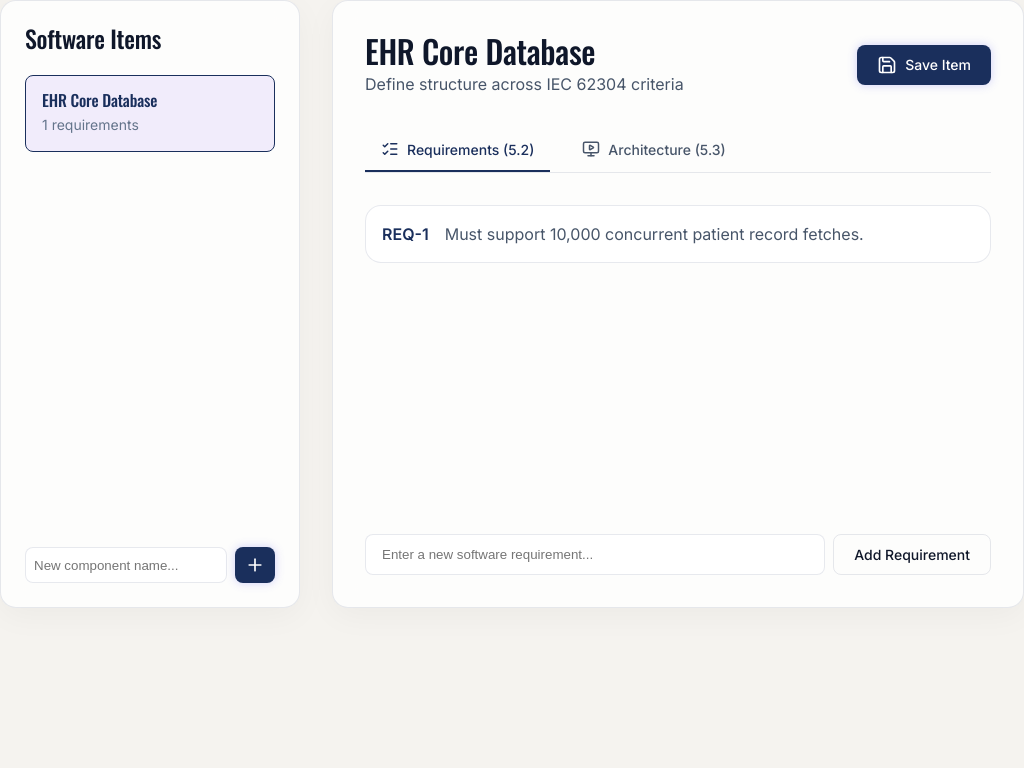
Test: SoftwareArchitecture component › arch.prog.02: adding a valid requirement creates REQ-2
The image size is (1024, 768).
Type "Must support OAuth 2.0" into the field with placeholder "Enter a new software requirement..." at [595, 554], box [365, 534, 825, 575]
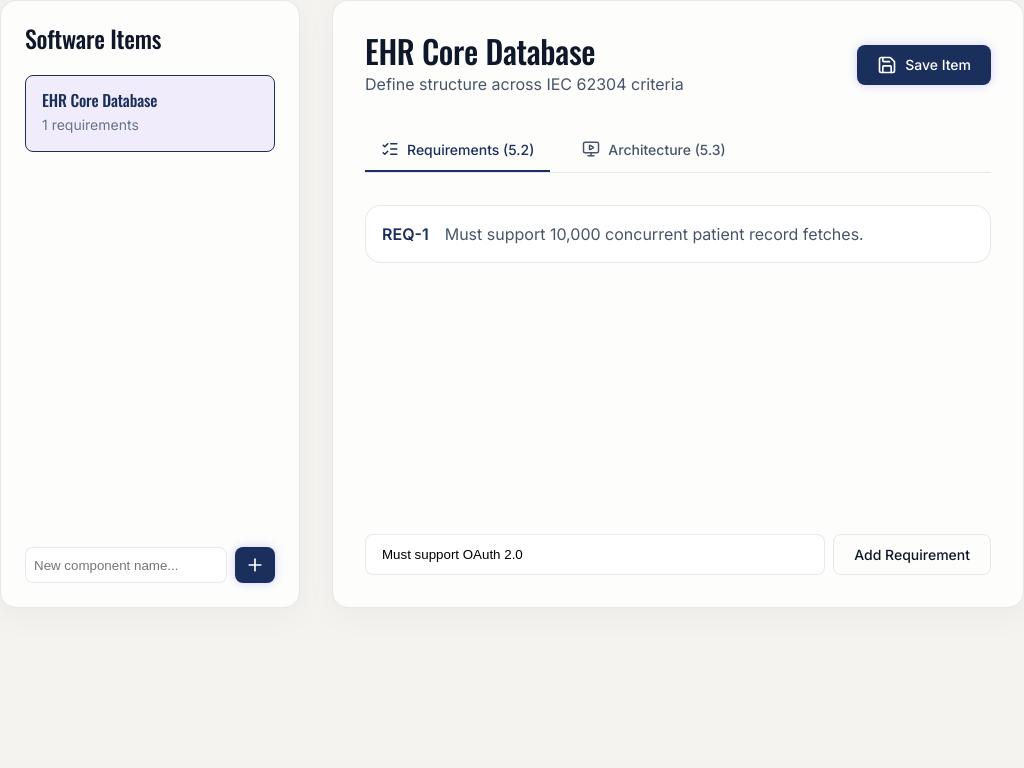
Click the button "Add Requirement" at [912, 554], box [833, 534, 991, 575]
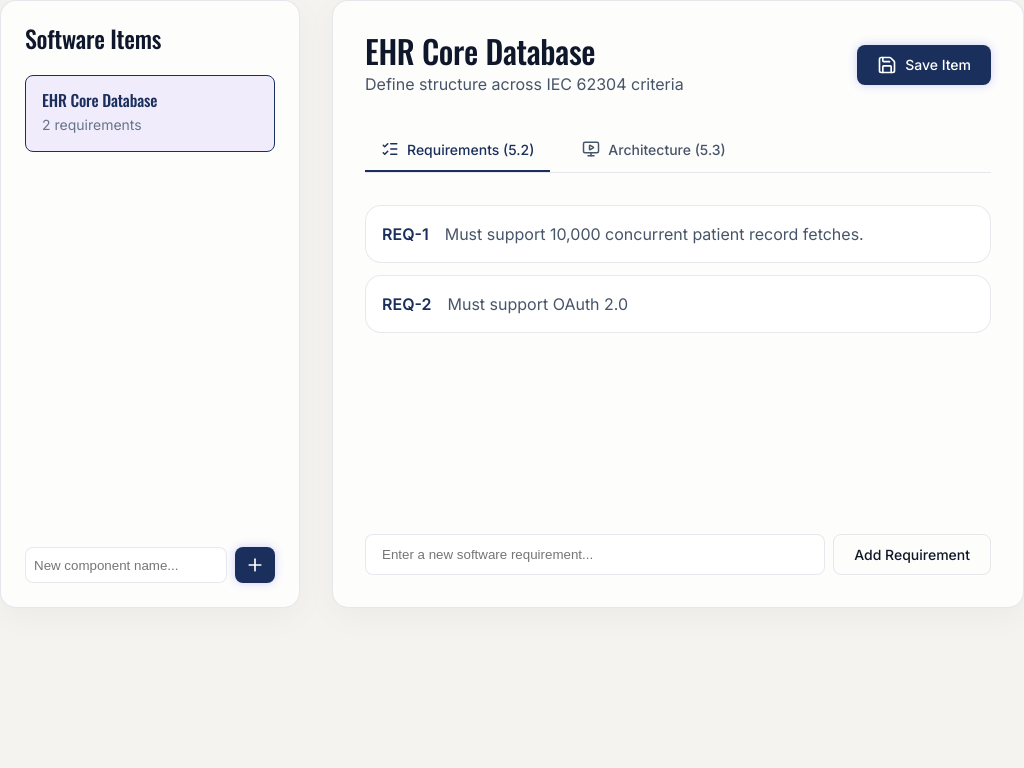
Expected: the text "REQ-2" is shown, [382, 292, 432, 316]
Expected: the text "Must support OAuth 2.0" is shown, [448, 292, 628, 316]
